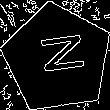N_W: (30, 35, 85, 82)
